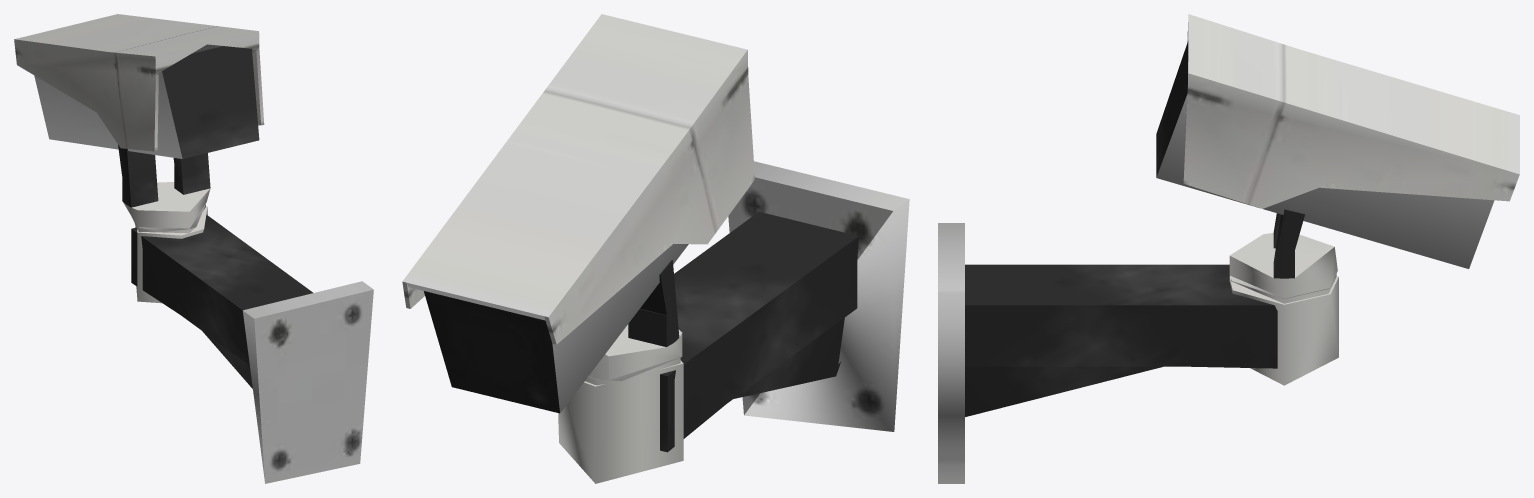
File: bw-cam-b.lod1.glb
3 renders of one model, left to right at view 1: azimuth 30°, elevation 25°; view 2: azimuth 150°, elevation 25°; view 3: azimuth 270°, elevation 25°, orthographic. The views are drawn at different scales.
Visible parts, largest first — view 1: Object_4; view 2: Object_4; view 3: Object_4.
Boxes of the visible parts, x1,y1,x2,y2 form: Object_4: (14,14,373,483); Object_4: (402,14,909,483); Object_4: (938,14,1519,483).
Bounding box in the file's own units: 0.167 × 0.471 × 0.6.
Materials: 1 (1 with a texture image).
